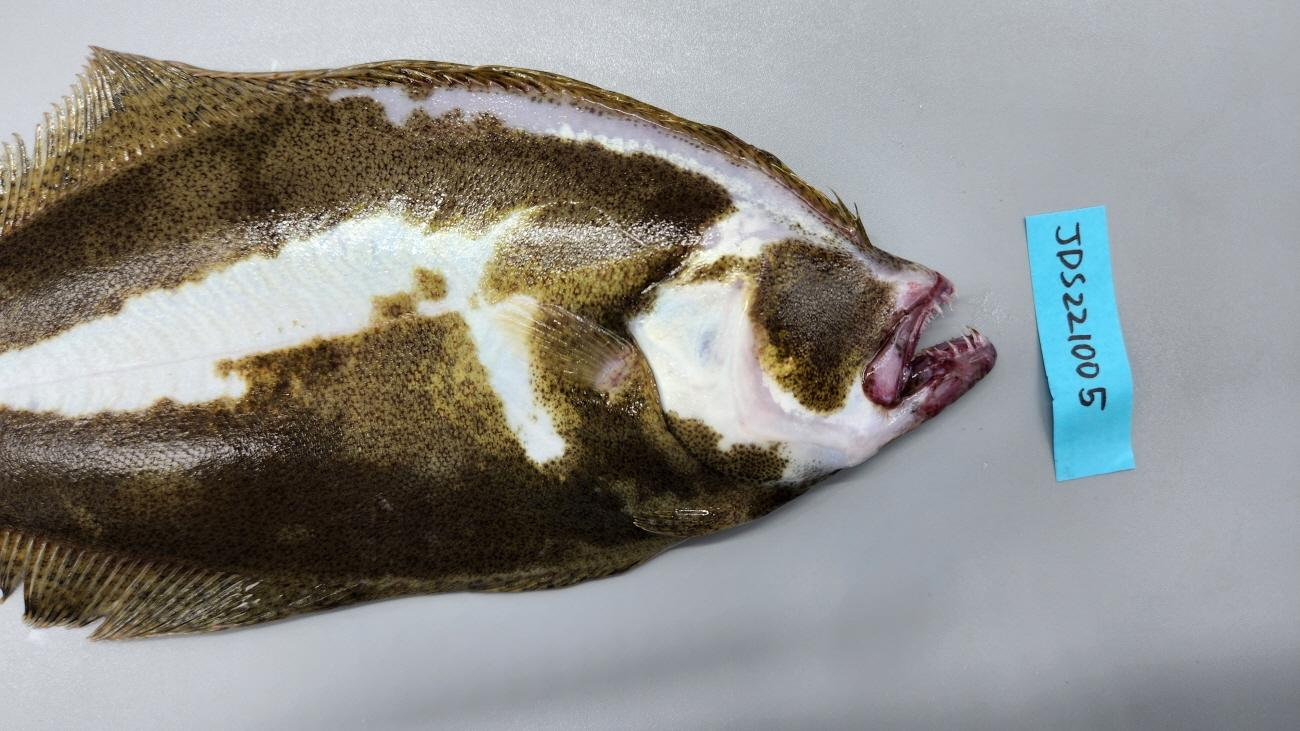VIMOU: (862, 271, 994, 407)
